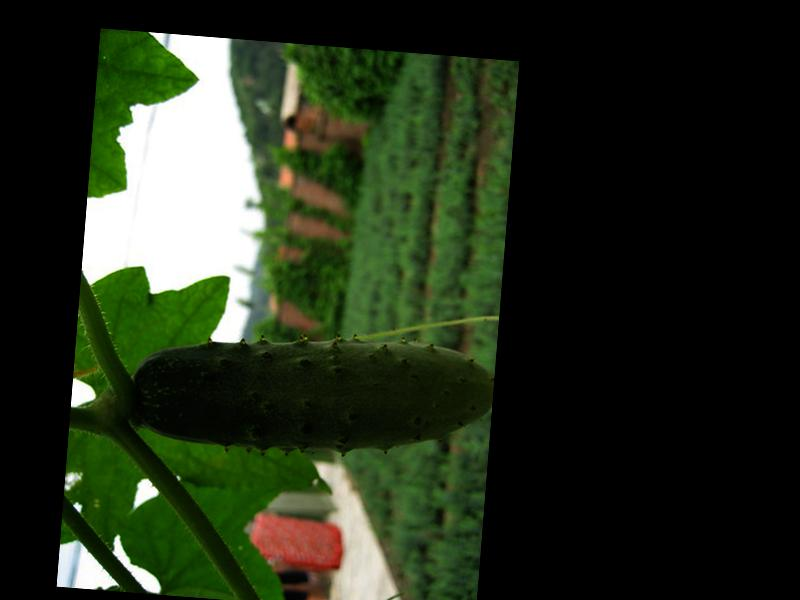Cucumber: (129, 323, 495, 466)
